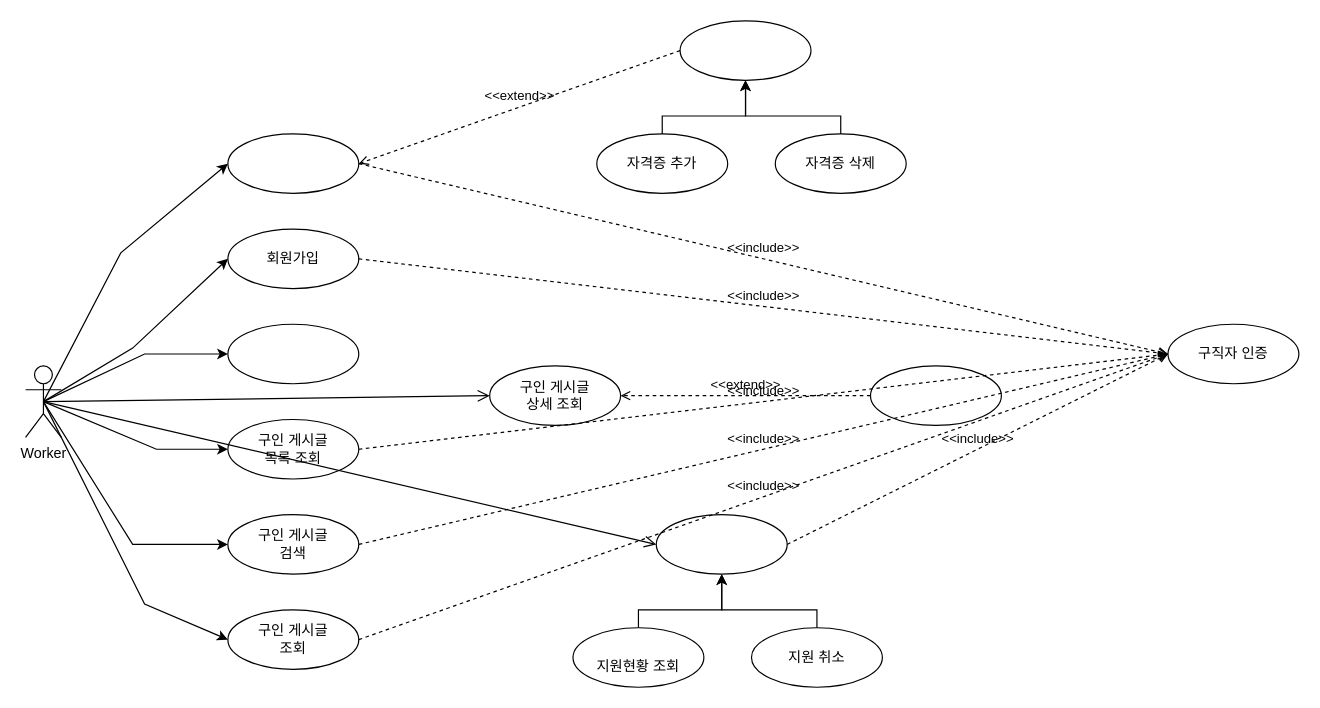
This 1320x708 diagram has some shape labels left out. The box of each missing label's shape, as (x1, y1, x2, y2) in pixels:
구인 신청: (869, 365, 1001, 425)
로그인: (227, 323, 359, 384)
자격증 관리: (679, 20, 811, 80)
지원현황 관리: (655, 513, 787, 574)
회원정보 수정: (227, 133, 359, 193)
